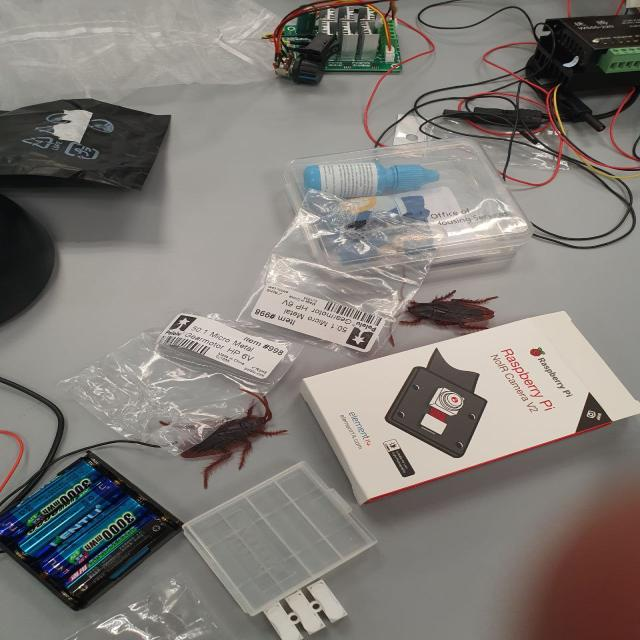Cockroach: (142, 388, 275, 490), (379, 271, 500, 335)
